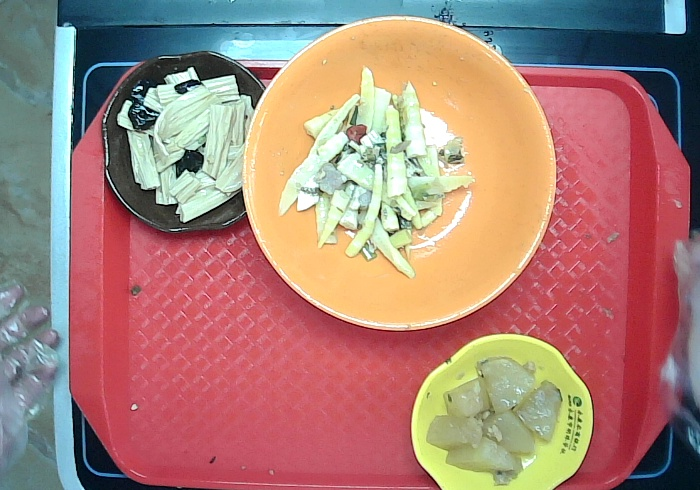YKMZ-Huang_Se_Ao_Bian_Wan: (406, 328, 597, 490)
YKMZ-Ju_Se_Tang_Wan: (239, 13, 558, 335)
YKMZ-Ka_Fei_Ao_Bian_Wan: (100, 48, 269, 239)
